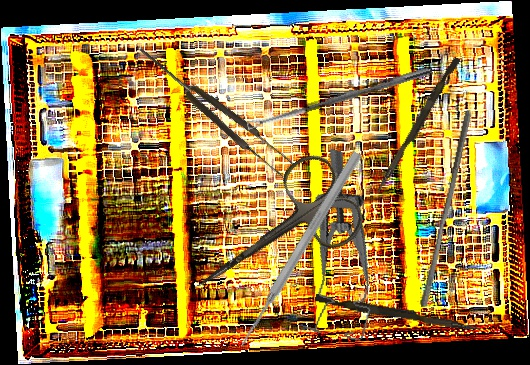Iris Scissors: (169, 146, 372, 326)
Pusher: (235, 149, 364, 350), (375, 54, 461, 197), (419, 107, 473, 310), (314, 293, 482, 333)
Speculum: (283, 148, 408, 344)
Surgical Spoon: (245, 64, 434, 131)
Tissue Forceps: (131, 37, 297, 181)
